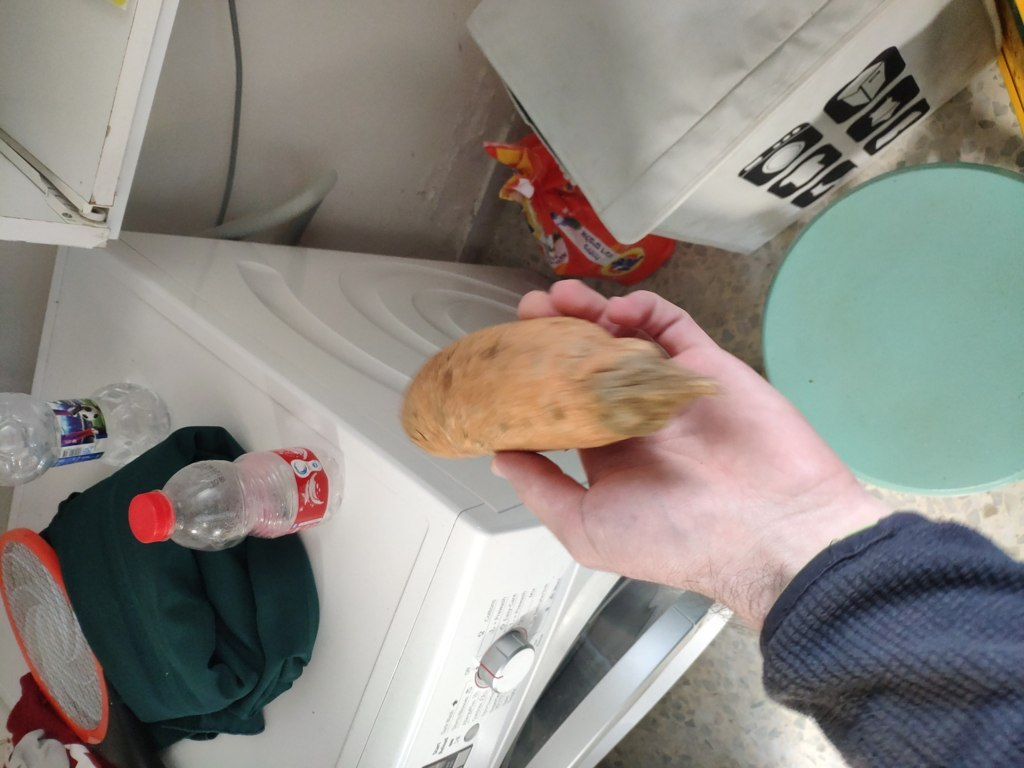Sweet Potato: (333, 328, 661, 449)
